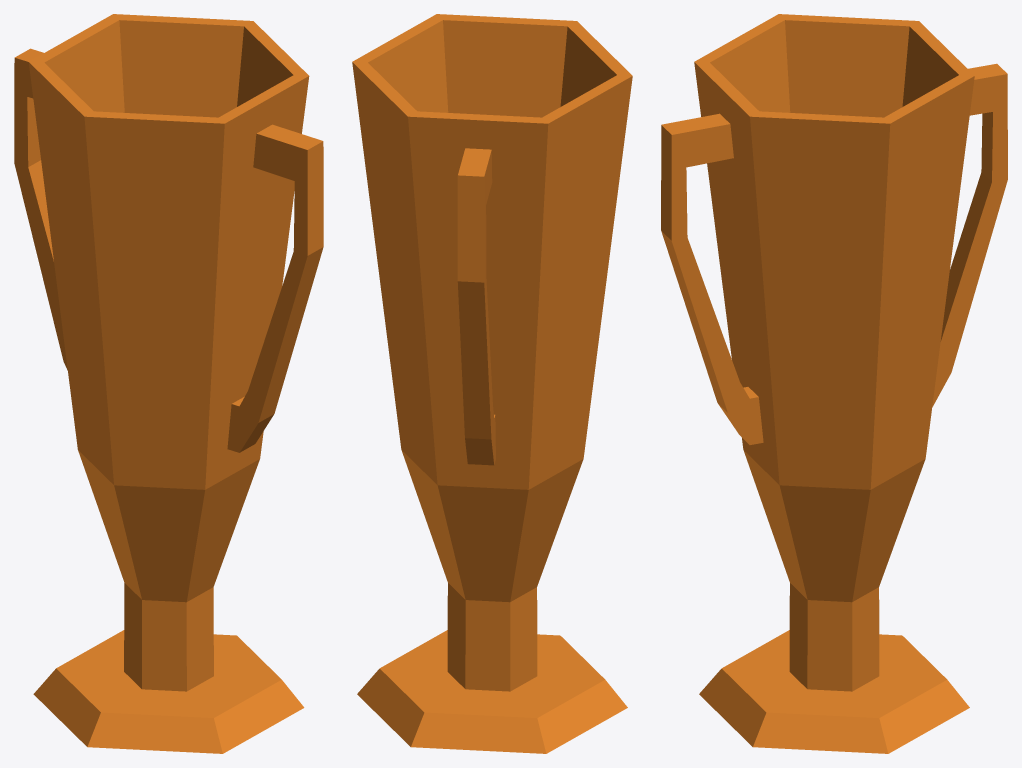
Rendered from Prize_2.fbx.
3 renders of one model, left to right at view 1: azimuth 30°, elevation 25°; view 2: azimuth 150°, elevation 25°; view 3: azimuth 270°, elevation 25°, orthographic.
Visible parts, largest first — view 1: prize 2; view 2: prize 2; view 3: prize 2.
Boxes of the visible parts, <box> form: prize 2: <box>14,14,323,753</box>; prize 2: <box>352,14,632,753</box>; prize 2: <box>661,14,1007,753</box>.
Size of the model in its own units: 17.29 by 46.45 by 23.1.
